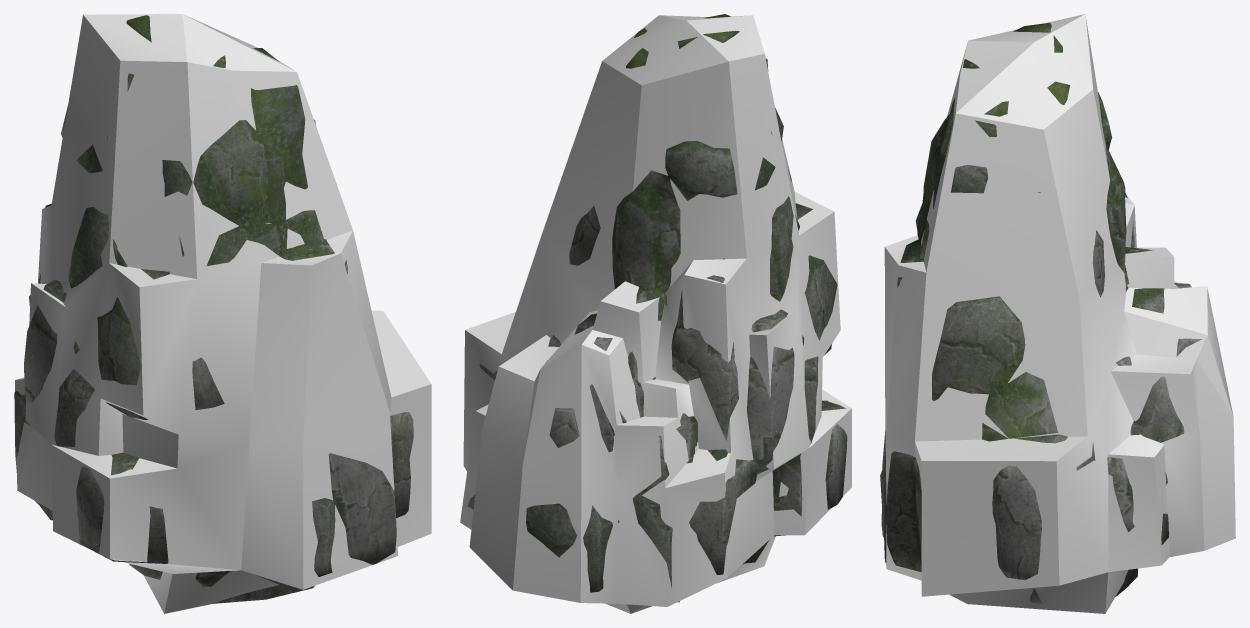
Rendered from Scene_Rock_DaShanShi_2.FBX.
The picture shows the model from 3 angles, left to right: view 1: azimuth 30°, elevation 25°; view 2: azimuth 150°, elevation 25°; view 3: azimuth 270°, elevation 25°; orthographic projection. The views are drawn at different scales.
Visible parts, largest first — view 1: Scene_Rock_DaShanShi_2_Xzm, Scene_Rock_DaShanShi_2; view 2: Scene_Rock_DaShanShi_2_Xzm, Scene_Rock_DaShanShi_2; view 3: Scene_Rock_DaShanShi_2_Xzm, Scene_Rock_DaShanShi_2.
Part boxes in pixels (x1,y1,x2,y2): Scene_Rock_DaShanShi_2_Xzm: (15, 14, 431, 613); Scene_Rock_DaShanShi_2: (14, 15, 413, 603); Scene_Rock_DaShanShi_2_Xzm: (460, 15, 851, 613); Scene_Rock_DaShanShi_2: (468, 14, 847, 602); Scene_Rock_DaShanShi_2_Xzm: (884, 14, 1235, 613); Scene_Rock_DaShanShi_2: (880, 22, 1202, 603).
Bounding box in the file's own units: 658 × 1057 × 651.
